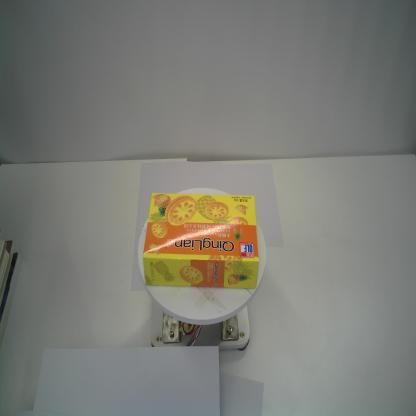Dessert: (142, 190, 261, 291)
